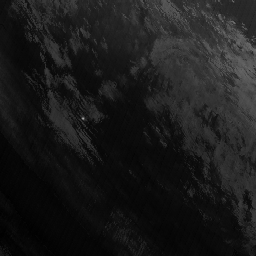Target: (79, 115, 85, 123)
